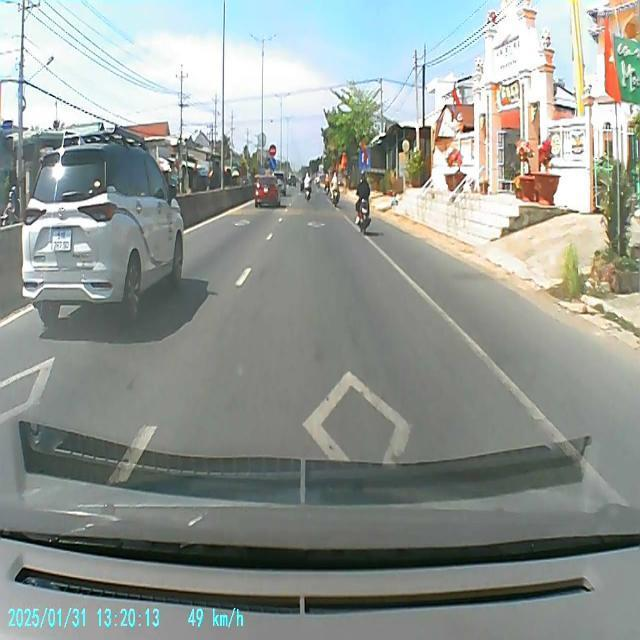102-cam-di-nguoc-chieu: (268, 144, 277, 156)
302a-huong-phai-di-vong-chuong-ngai-vat-1: (269, 158, 277, 171)
